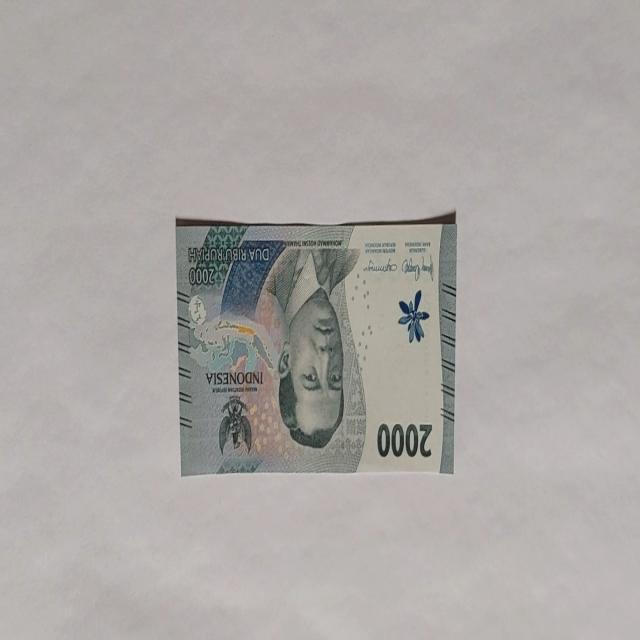dua ribu rupiah: (176, 214, 457, 476), (257, 245, 363, 462)
